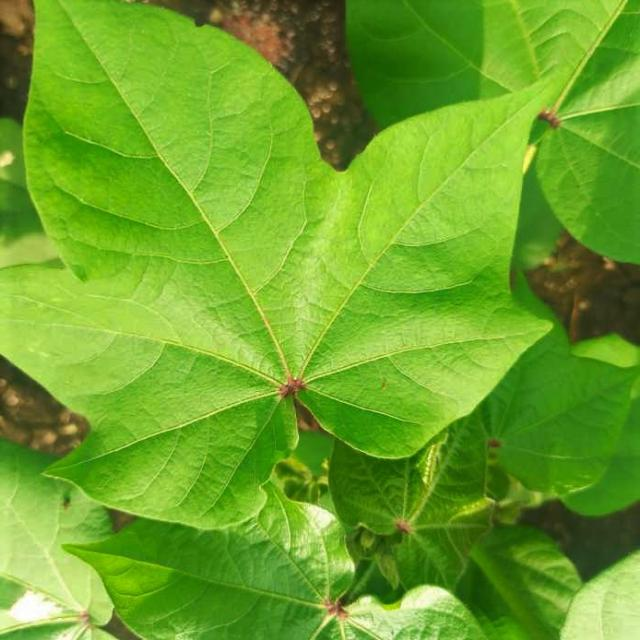Healthy Leaf: (58, 20, 554, 640)
